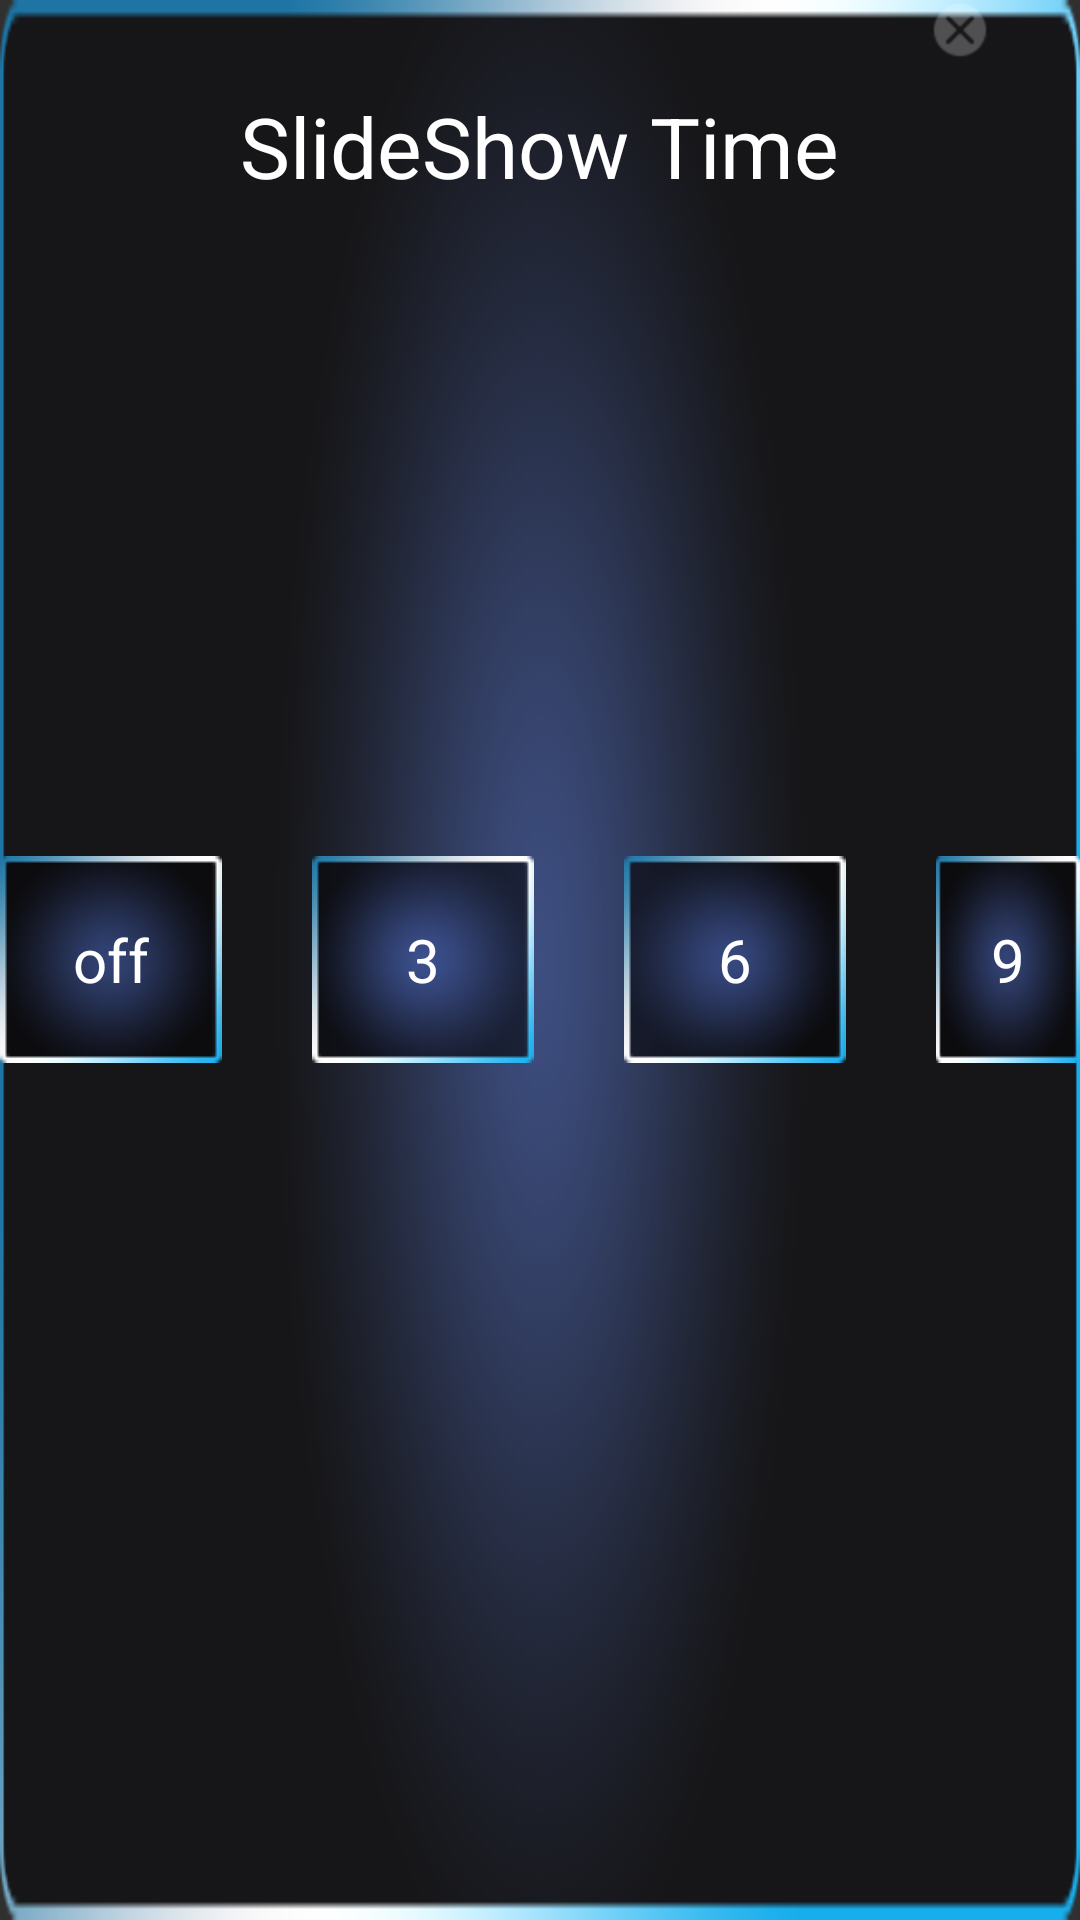

Screen size 1080px×1920px. Icon name, then its center in pixels as (x=x, y=y):
close: (x=960, y=28)
